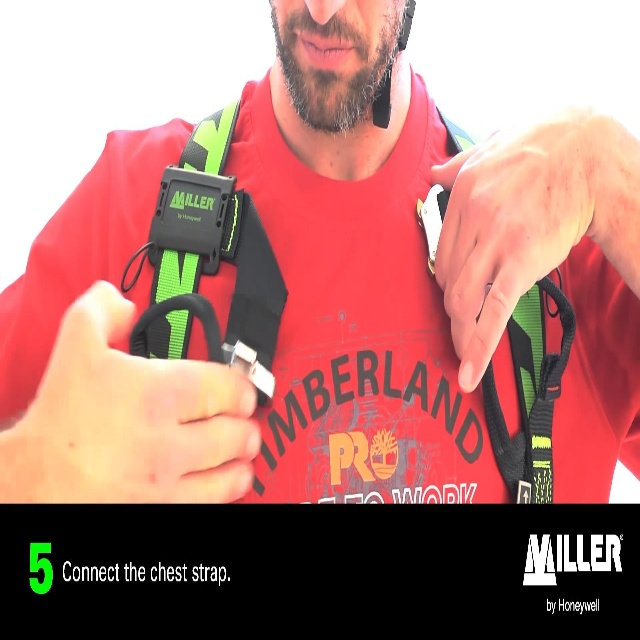Arnes_seguridad: (114, 36, 571, 506), (570, 17, 640, 39)
